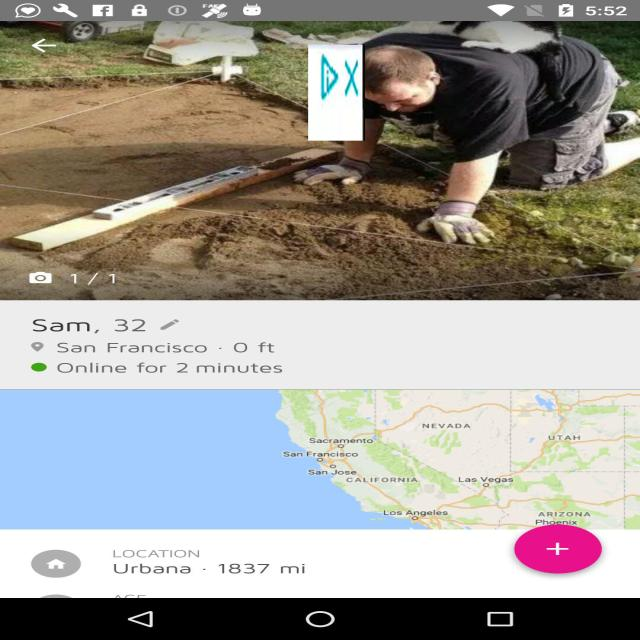sneaking: (308, 44, 365, 140)
